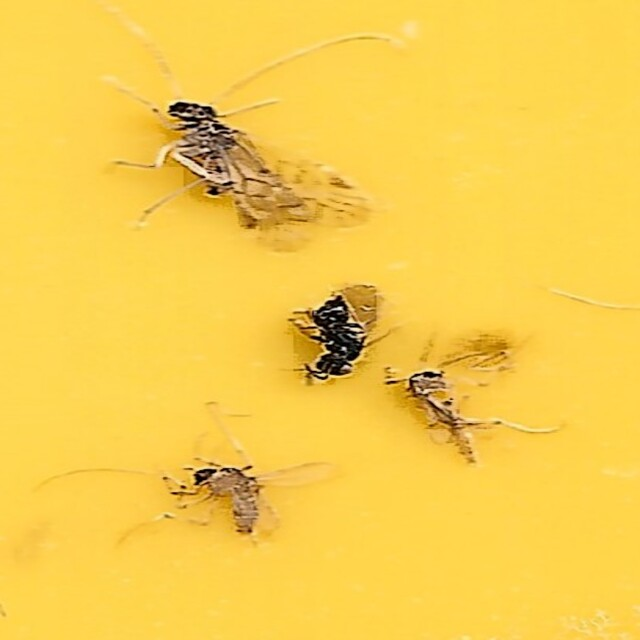Hymenoptera: (296, 294, 367, 381)
Nematocera: (398, 369, 483, 466), (190, 464, 260, 540)
Psocoptera: (157, 100, 376, 254)
